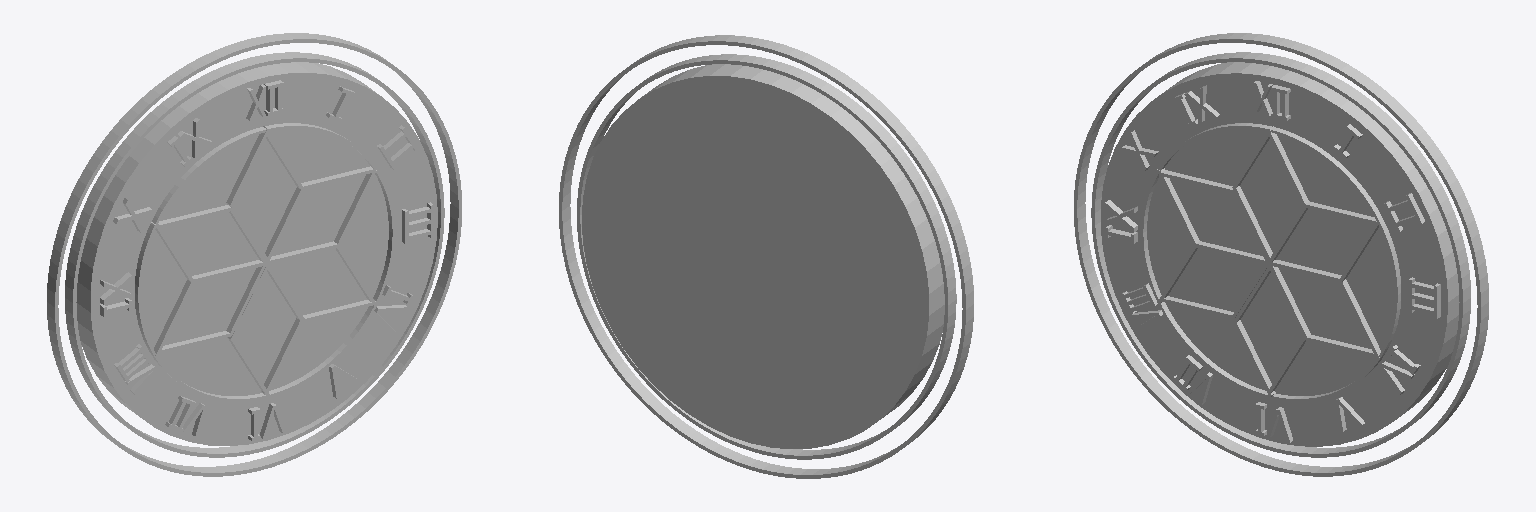
File: clock.obj
The picture shows the model from 3 angles: view 1: azimuth 30°, elevation 25°; view 2: azimuth 150°, elevation 25°; view 3: azimuth 330°, elevation 25°; orthographic projection.
Parts seen in each view (by area): view 1: ???_2, ??.1, ??, ??.2, ???.4_1, ???, ???.5_1, ???.2, ???.5, ???.1, ???_1, ???.3_1 (+3 smaller); view 2: ???_2, ??.1, ??; view 3: ???_2, ??.1, ??, ??.2, ???.1, ???.3_1, ???.2_1, ???.2, ???.4, ???, ???.3, ???_1 (+4 smaller).
Part boxes in pixels (x1,y1,x2,y2): ???_2: (76, 62, 437, 445); ??.1: (47, 33, 461, 476); ??: (65, 52, 444, 457); ??.2: (135, 123, 394, 401); ???.4_1: (266, 170, 376, 263); ???: (157, 260, 266, 354); ???.5_1: (265, 132, 303, 264); ???.2: (226, 126, 268, 260); ???.5: (261, 268, 303, 395); ???.1: (151, 222, 264, 282); ???_1: (158, 205, 266, 266); ???.3_1: (266, 264, 376, 322); ???_2: (582, 64, 944, 448); ??.1: (559, 35, 973, 478); ??: (577, 54, 956, 459); ???_2: (1101, 62, 1459, 446); ??.1: (1074, 33, 1488, 476); ??: (1091, 52, 1470, 457); ??.2: (1141, 123, 1400, 401); ???.1: (1157, 168, 1266, 263); ???.3_1: (1271, 264, 1379, 357); ???.2_1: (1233, 264, 1275, 397); ???.2: (1232, 126, 1273, 261); ???.4: (1271, 263, 1380, 355); ???: (1160, 264, 1267, 318); ???.3: (1270, 201, 1378, 262); ???_1: (1162, 170, 1270, 266).
Size of the model in its own units: 57 by 57 by 5.42.